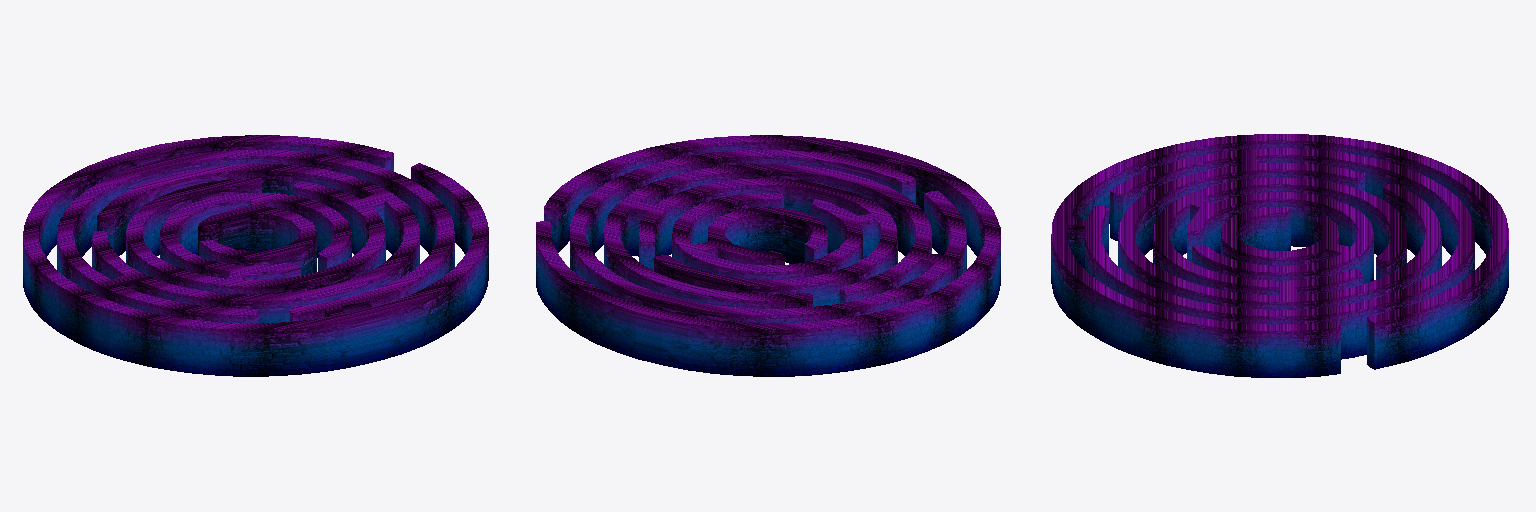
3 renders of one model, left to right at view 1: azimuth 30°, elevation 25°; view 2: azimuth 150°, elevation 25°; view 3: azimuth 270°, elevation 25°, orthographic.
Parts seen in each view (by area): view 1: maze1; view 2: maze1; view 3: maze1.
Boxes of the visible parts, box(x1,y1,x2,y2) form: maze1: box(23, 135, 488, 376); maze1: box(536, 135, 1000, 376); maze1: box(1051, 134, 1508, 377).
Size of the model in its own units: 34.9 by 3.88 by 34.16.
1 materials, 1 textured.